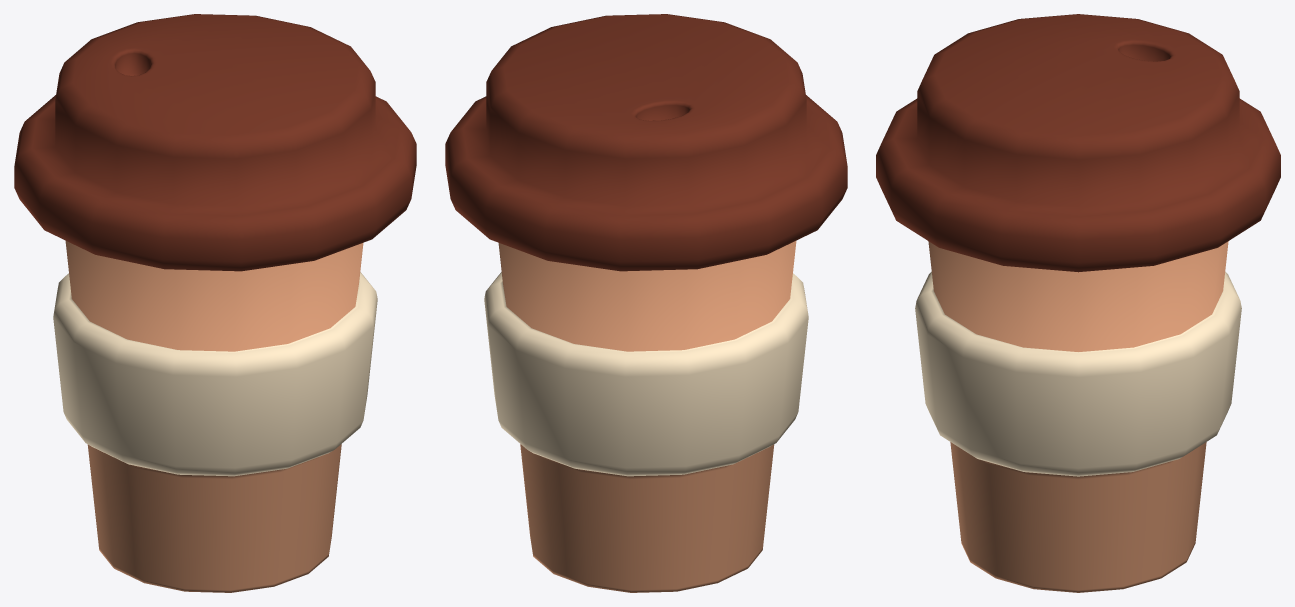
The model's file is paper-cup-5.fbx.
The picture shows the model from 3 angles, left to right: view 1: azimuth 30°, elevation 25°; view 2: azimuth 150°, elevation 25°; view 3: azimuth 270°, elevation 25°; orthographic projection.
Parts seen in each view (by area): view 1: paper-cup-5; view 2: paper-cup-5; view 3: paper-cup-5.
Part boxes in pixels (x1,y1,x2,y2): paper-cup-5: [14, 14, 416, 592]; paper-cup-5: [445, 14, 847, 592]; paper-cup-5: [876, 14, 1280, 592].
Size of the model in its own units: 31.37 by 40.03 by 31.37.
